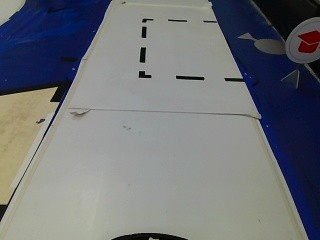school: (284, 13, 320, 65)
